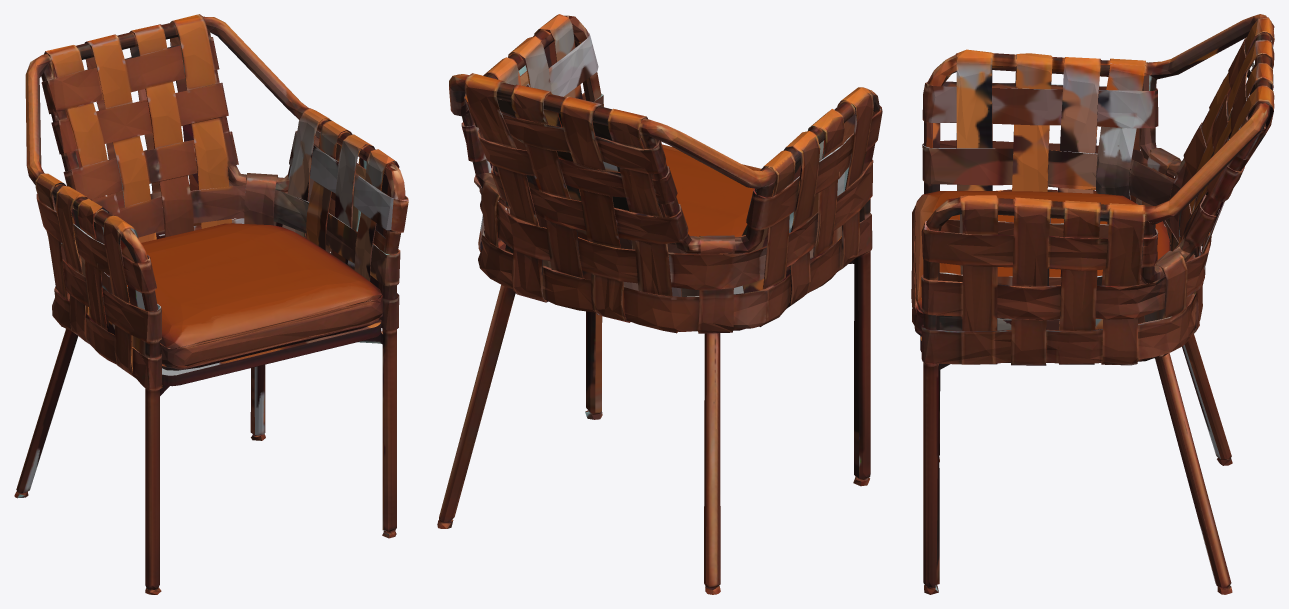
File: edited_mesh.glb
3 views of the same model, side by side, from view 1: azimuth 30°, elevation 25°; view 2: azimuth 150°, elevation 25°; view 3: azimuth 270°, elevation 25° (orthographic). The views are drawn at different scales.
Parts seen in each view (by area): view 1: solid_001_wire; view 2: solid_001_wire; view 3: solid_001_wire.
Part boxes in pixels (bbox=[...]): solid_001_wire: bbox=[14, 14, 408, 594]; solid_001_wire: bbox=[437, 14, 882, 594]; solid_001_wire: bbox=[911, 14, 1274, 594].
Size of the model in its own units: 1.04 by 1.48 by 1.04.
1 material, 1 textured.
